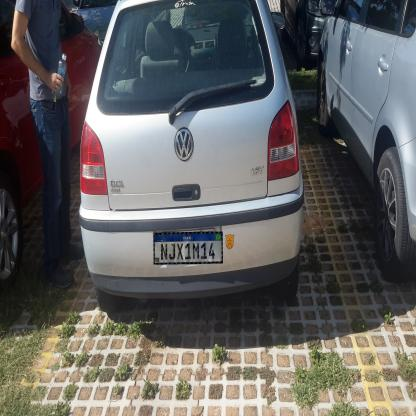PlacaM: (153, 232, 223, 264)
